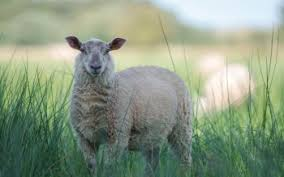koyun: (62, 37, 193, 173)
